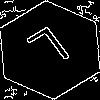L: (25, 25, 79, 79)
